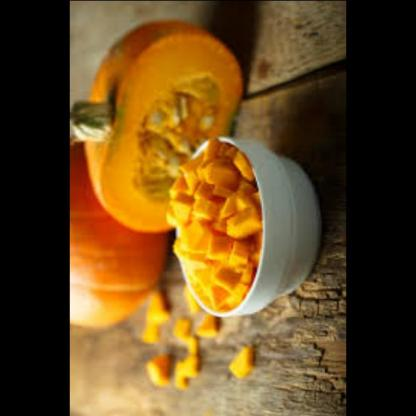pumpkin: (77, 22, 243, 237), (69, 119, 170, 333), (161, 131, 263, 314), (166, 288, 217, 387), (127, 300, 174, 394), (216, 335, 260, 386)
